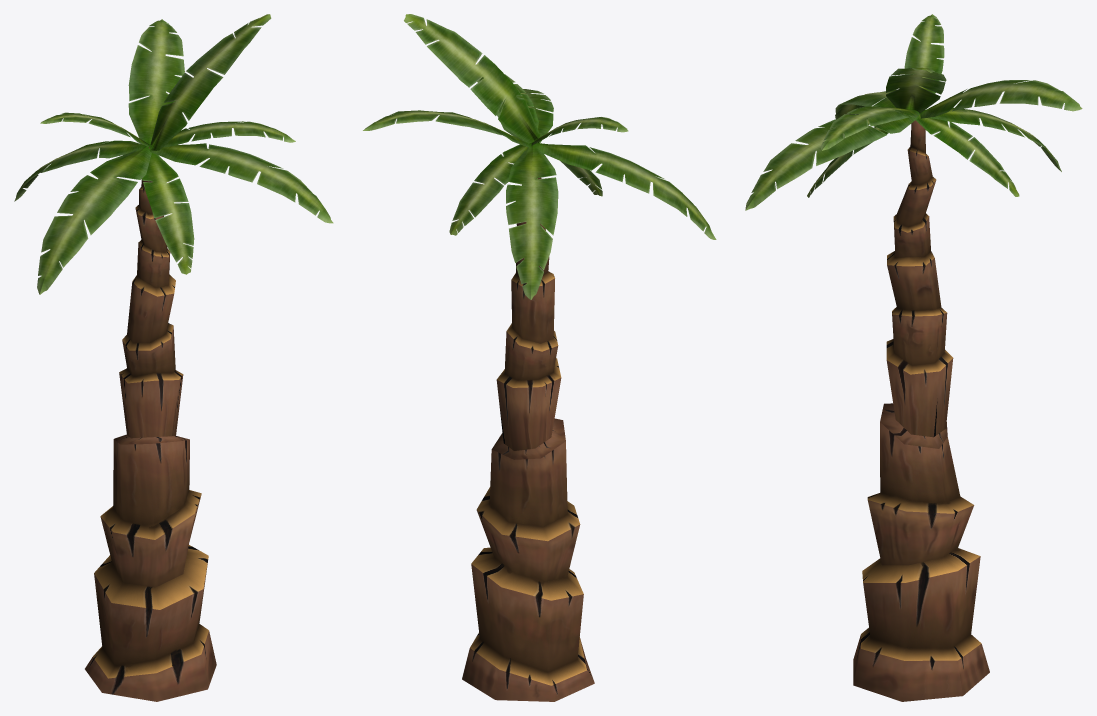
Rendered from palm2.fbx.
3 renders of one model, left to right at view 1: azimuth 30°, elevation 25°; view 2: azimuth 150°, elevation 25°; view 3: azimuth 270°, elevation 25°, orthographic. The views are drawn at different scales.
Parts seen in each view (by area): view 1: Palm1; view 2: Palm1; view 3: Palm1.
Boxes of the visible parts, bbox=[...] form: Palm1: bbox=[14, 14, 333, 701]; Palm1: bbox=[363, 14, 716, 701]; Palm1: bbox=[745, 14, 1082, 701].
Size of the model in its own units: 192 by 428 by 197.
